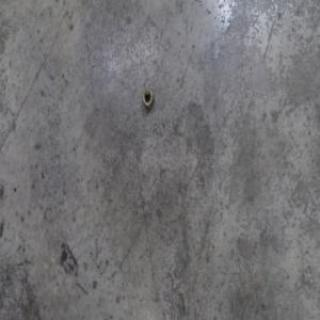Nuttrack_idkeyframe: (140, 86, 154, 110)
